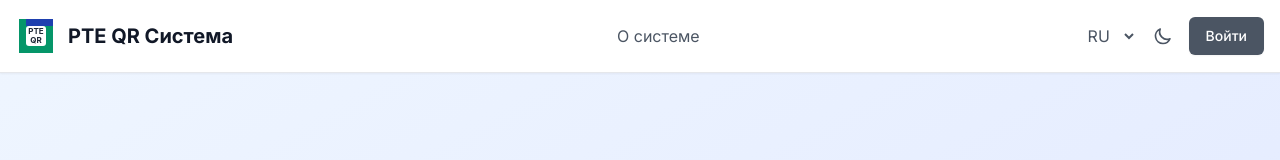
it: Header › renders with different language texts
Change to English
Select "EN" in the dropdown at (1110, 36), box [1084, 25, 1137, 47]
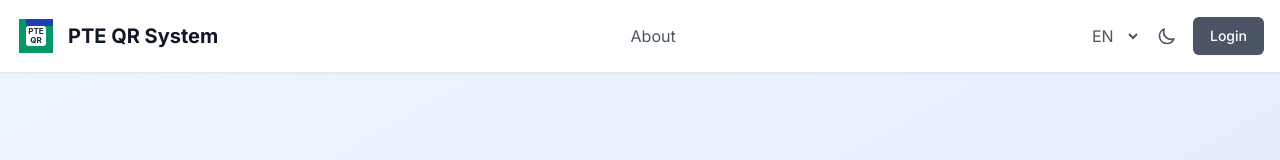
Check: the link "About" is shown, box [630, 24, 676, 48]
Check: the text "PTE QR System" is shown, box [68, 22, 218, 50]
